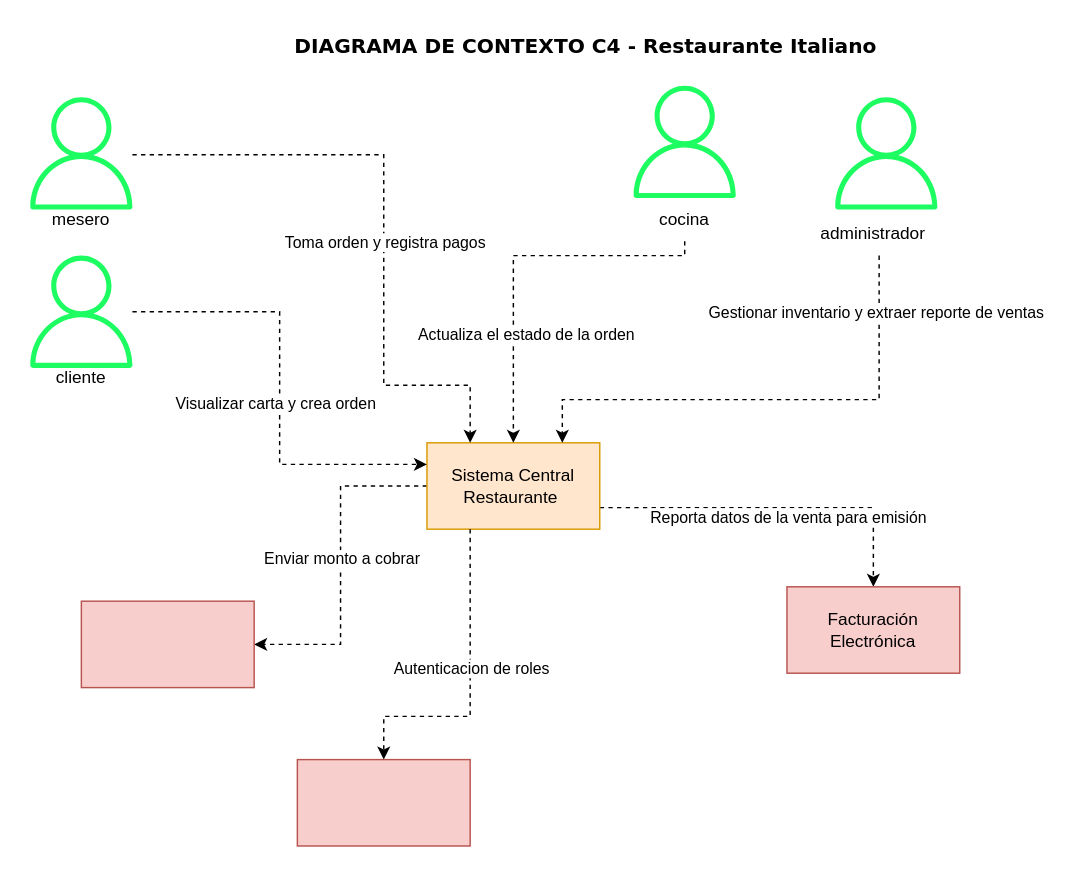
This 1068x871 diagram has some shape labels left out. Each missing label, with the centre of its shape:
"Pasarela de Pago" goes at pixel 167 644.
"Provedor de Identidad" goes at pixel 383 802.
